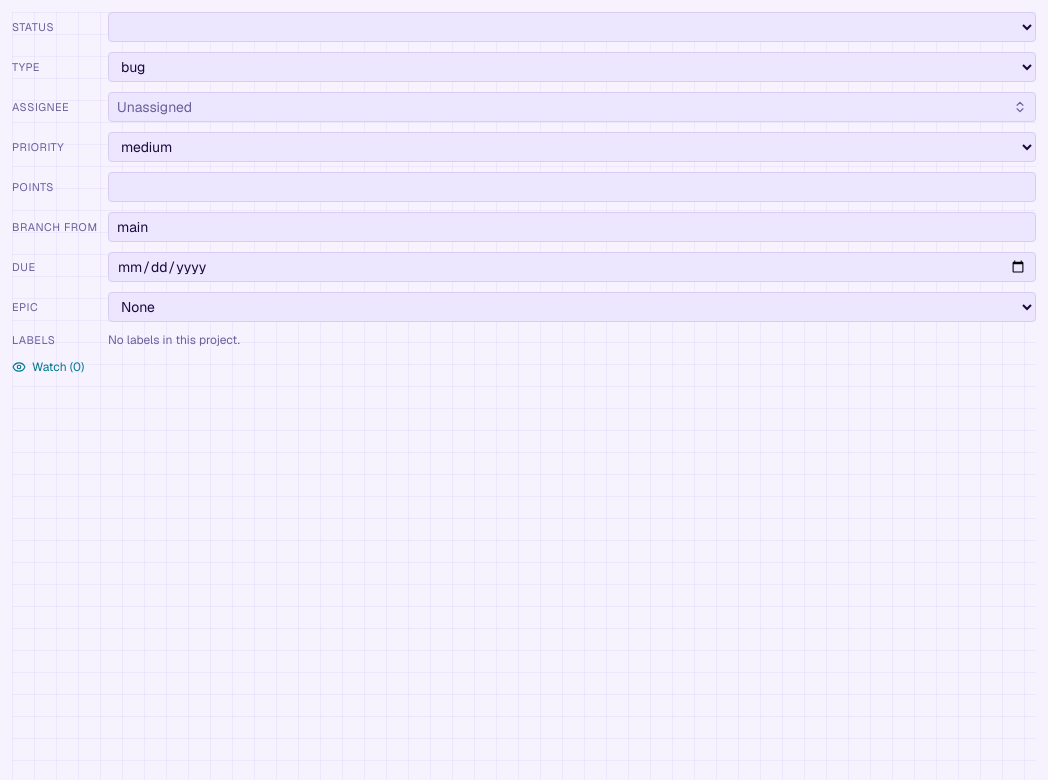
Scenario: Branch from field › goes back to the saved branch when the server refuses the name
This screenshot has width=1048, height=780.
Replace the text in the field named "Branch from" with "bad..name": (572, 227) [108,212,1036,242]
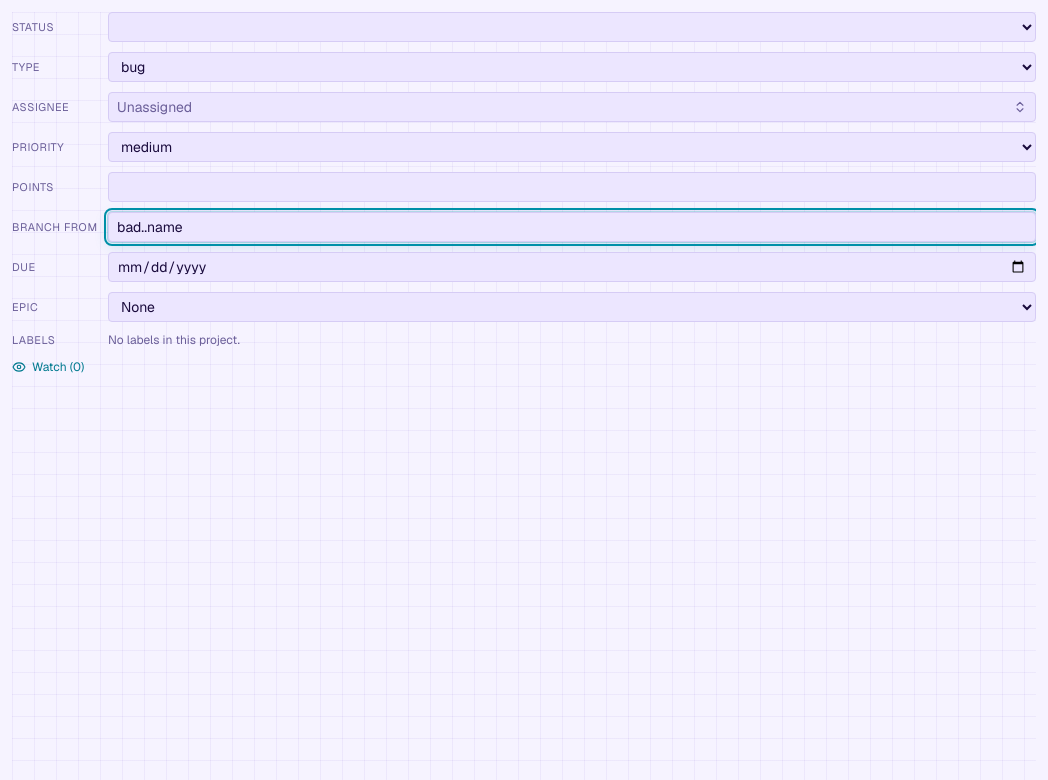
Press Tab
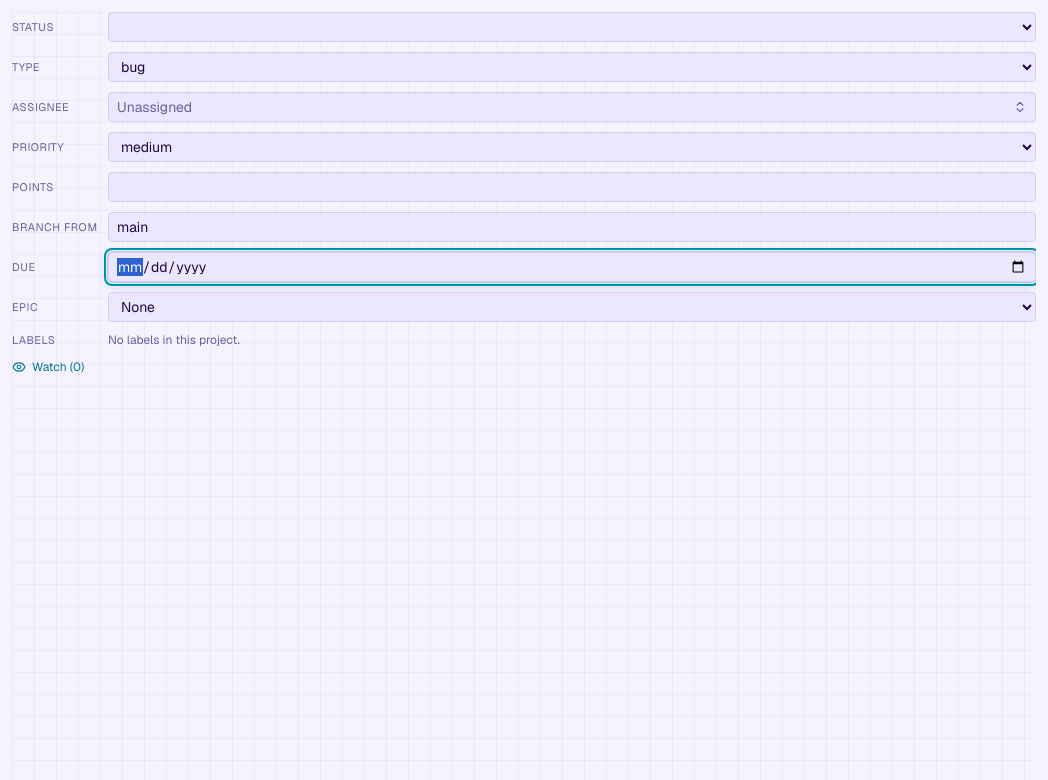
Expected: the field named "Branch from" holds "main", [108,212,1036,242]
